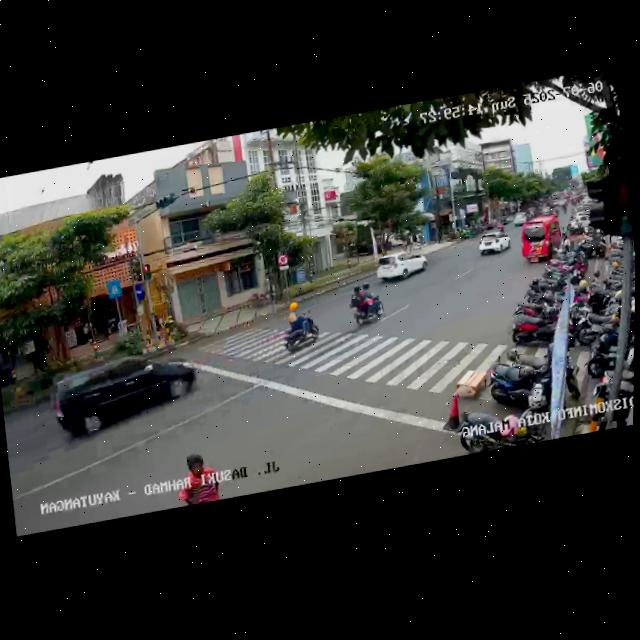car: (48, 343, 205, 447), (517, 211, 566, 266), (373, 247, 428, 286), (475, 226, 512, 259)
motorcycle: (277, 297, 321, 355), (346, 279, 386, 331)
person: (173, 446, 223, 505)
